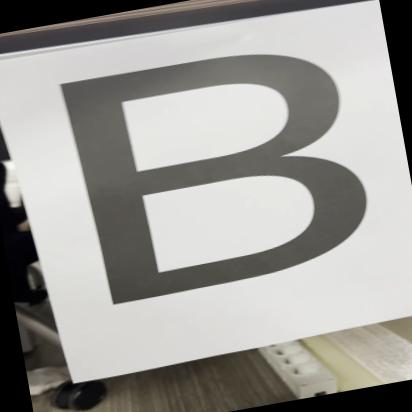seat: (37, 21, 383, 314)
